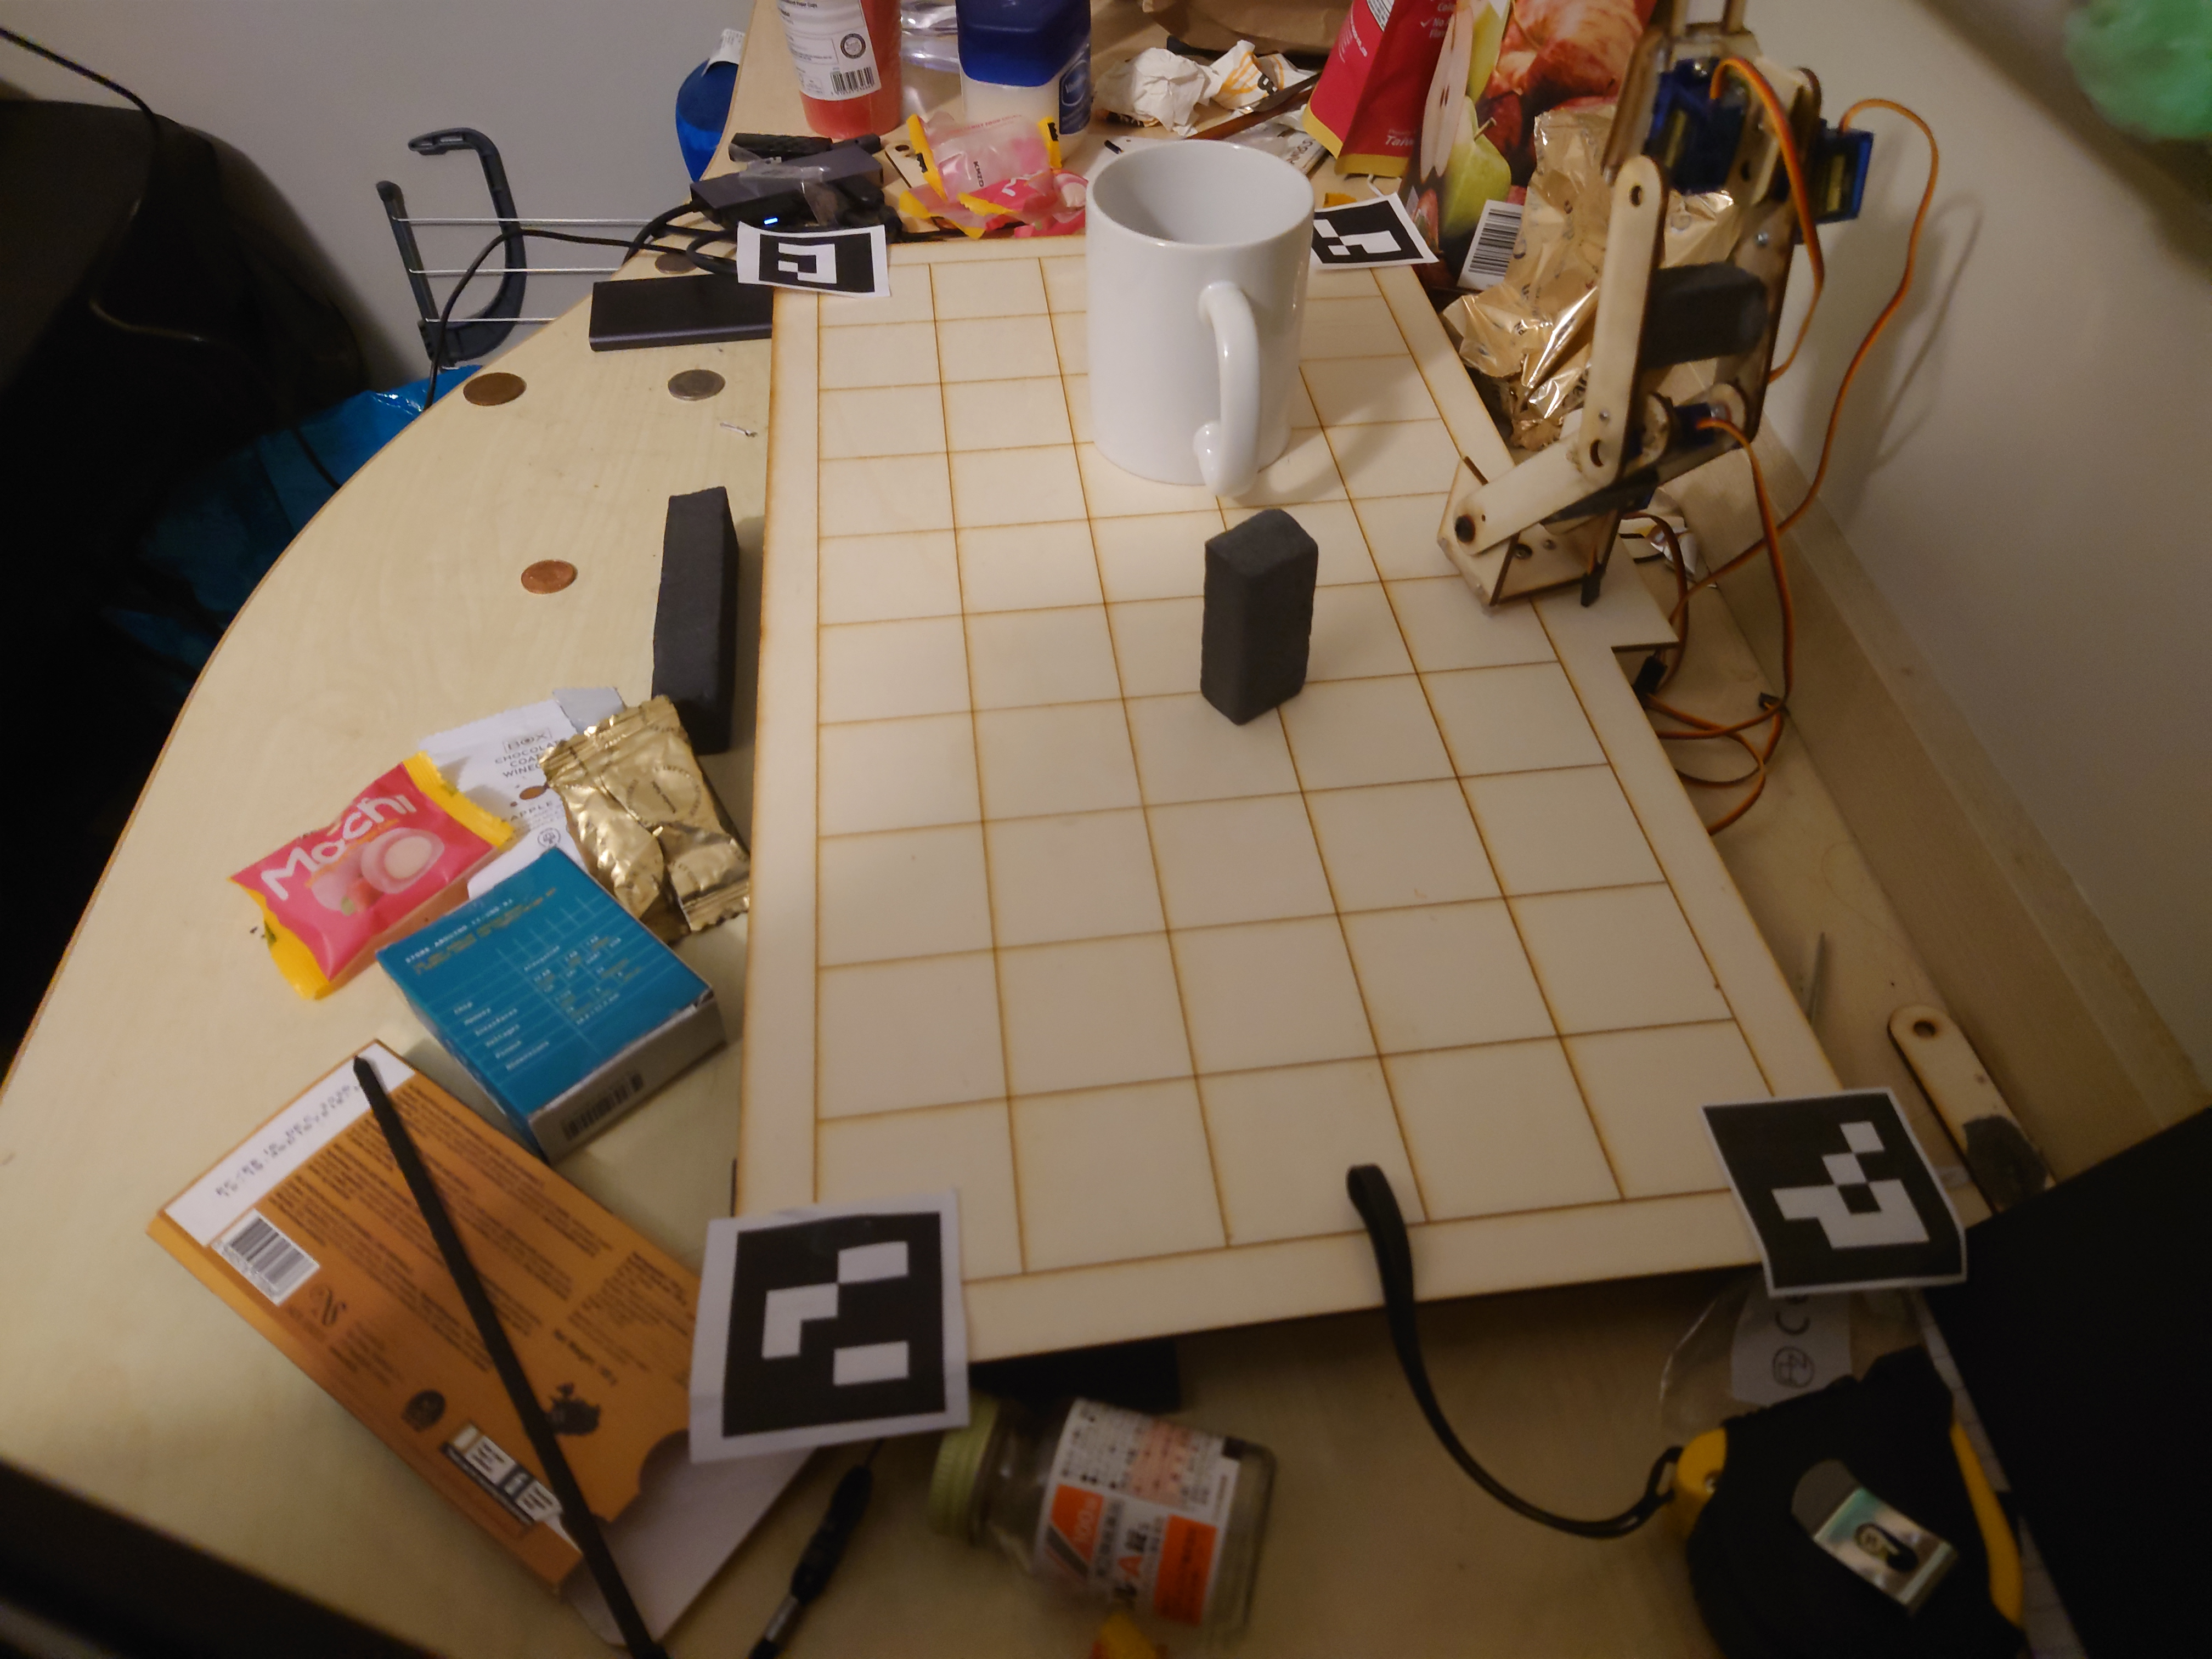cup: (1078, 134, 1317, 495)
target: (1188, 495, 1320, 730)
